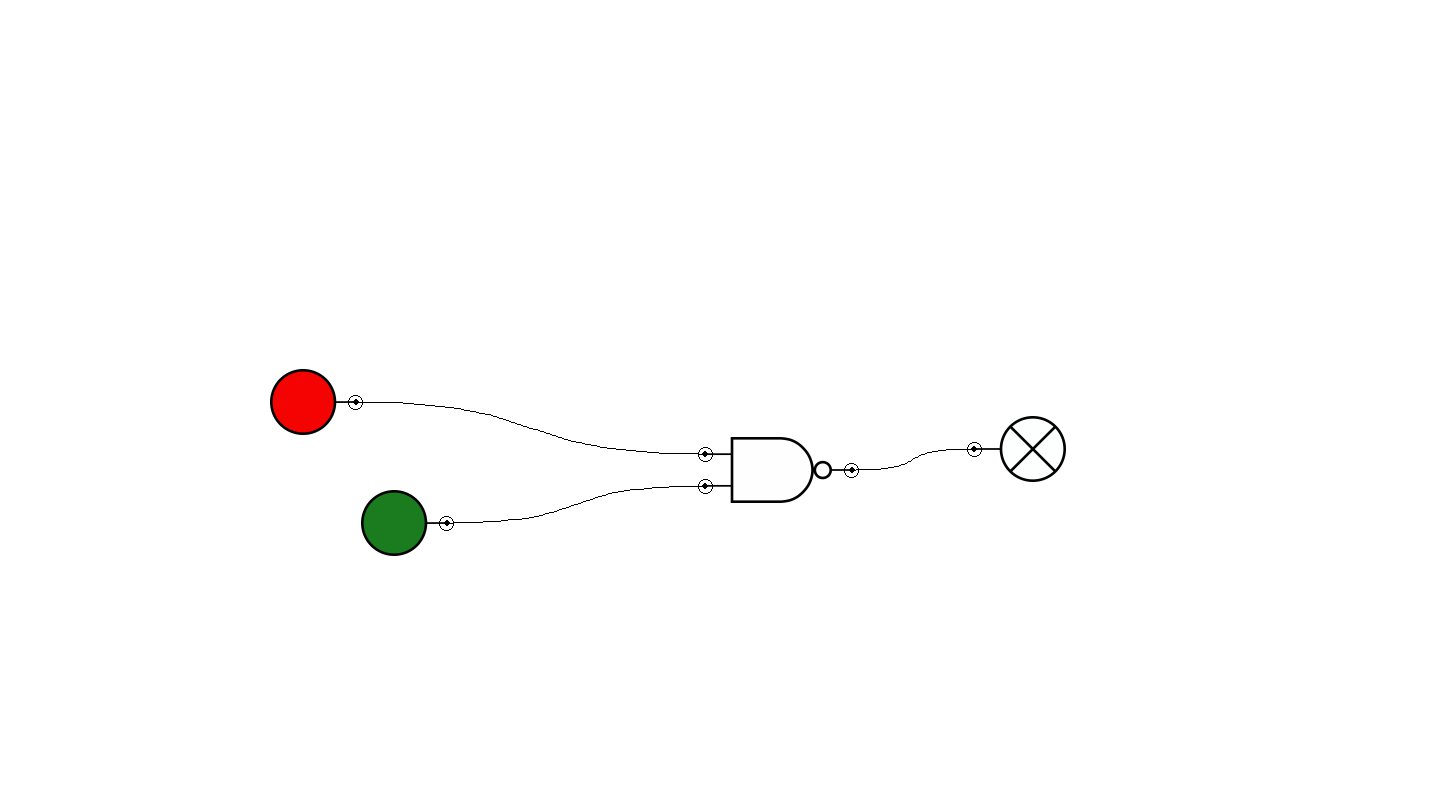bulb: (967, 416, 1066, 482)
nand: (698, 437, 859, 503)
switch_False: (270, 369, 363, 435)
switch_True: (361, 490, 454, 556)
